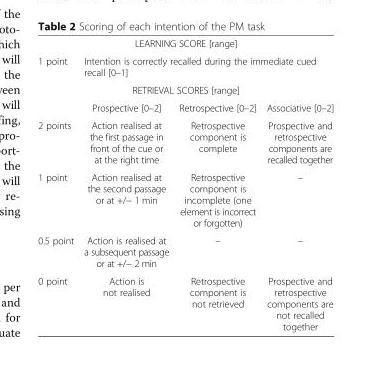table: (37, 37, 333, 331)
table column: (78, 37, 173, 331), (173, 37, 260, 331), (260, 37, 333, 331), (37, 37, 78, 331)
table projected row header: (37, 80, 333, 98), (37, 37, 333, 51)
table row: (37, 168, 333, 231), (37, 271, 333, 331), (37, 116, 333, 168), (37, 231, 333, 271), (37, 51, 333, 80), (37, 80, 333, 98), (37, 98, 333, 116), (37, 37, 333, 51)
table spanning cell: (78, 51, 333, 80)
